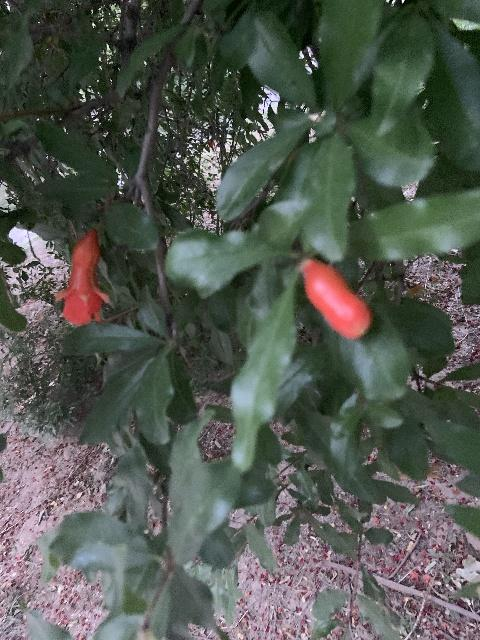bud: (302, 259, 373, 340)
flower: (52, 229, 109, 326)
